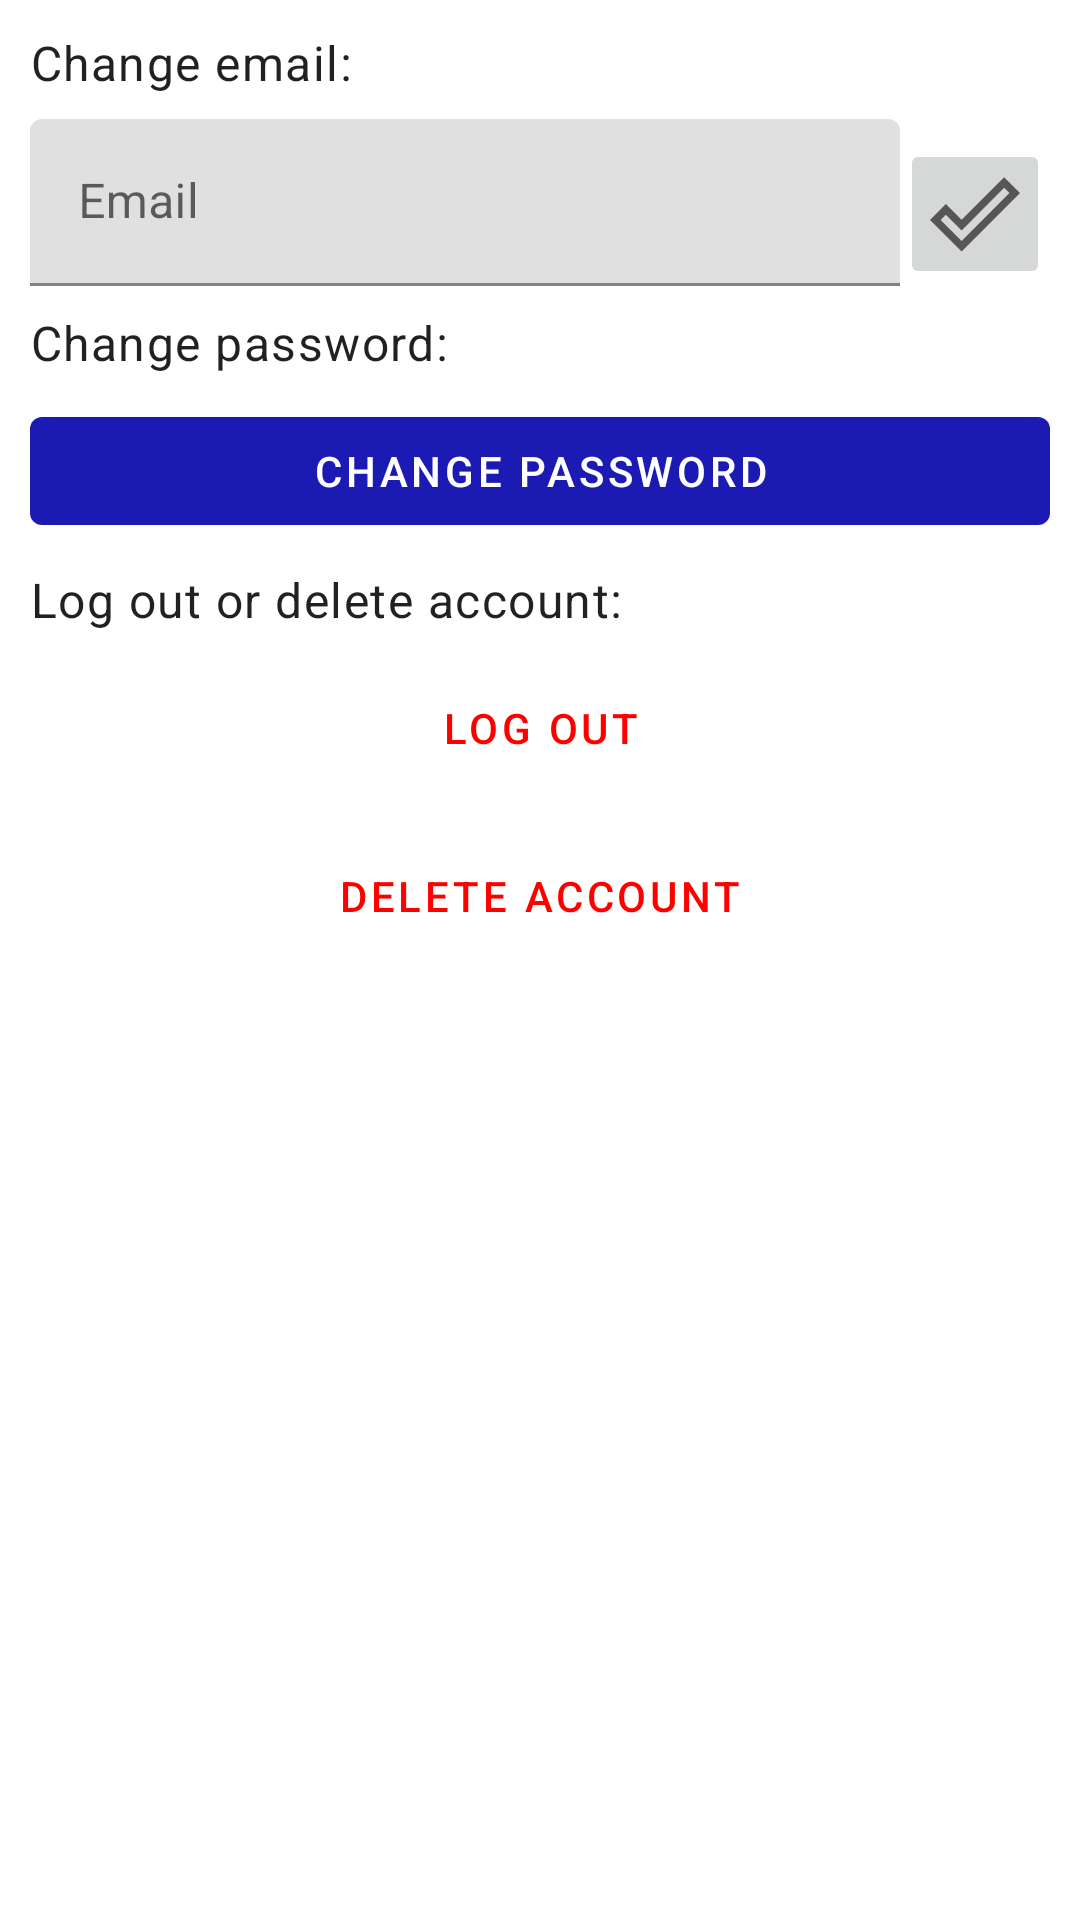

Screen size 1080*1920. Icon name, then its box in pixels as BBox(x1, y1, x2, y2):
done: BBox(912, 157, 1038, 271)
